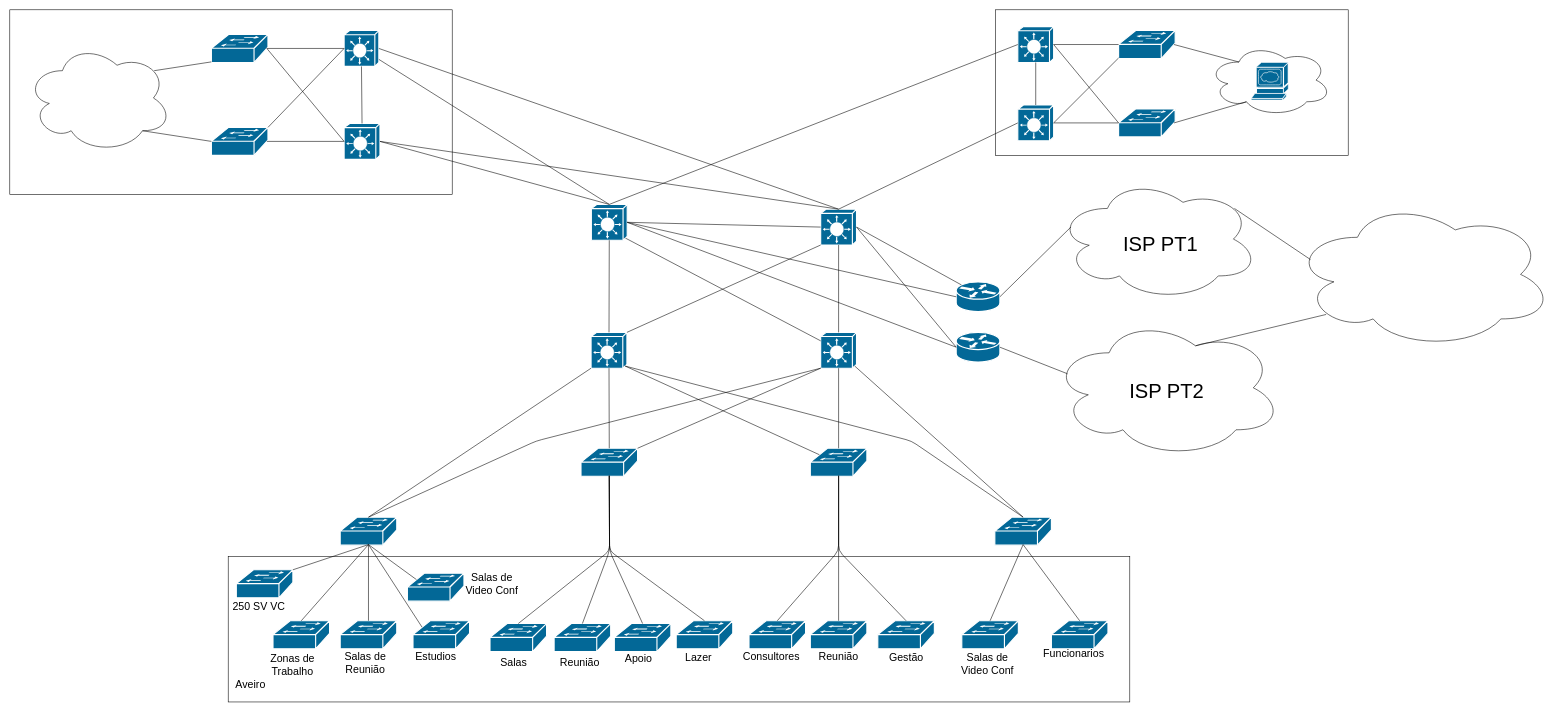
The diagram is 1563 pixels wide and 712 high, and some of its shapes have lost their labels. The centre of each missing label's shape, as x and y in pixels:
"DataCenter" goes at [98,98].
"Internet" goes at [1422,274].
